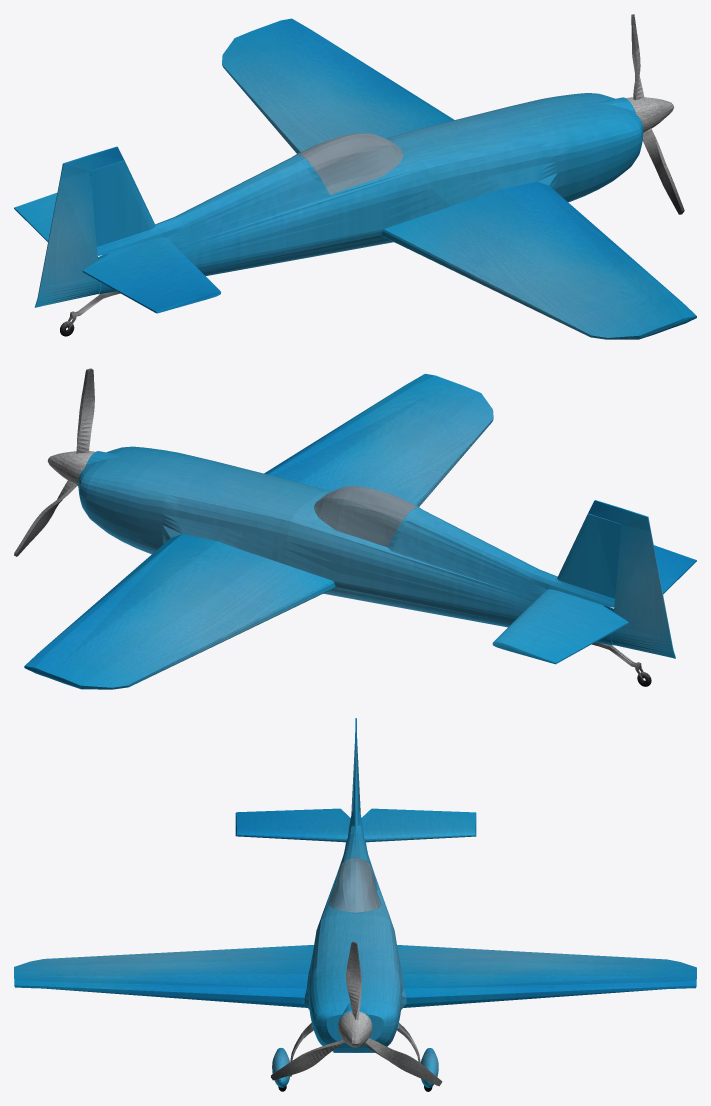
Rendered from Trapezoidal.glb.
The picture shows the model from 3 angles, top to bottom: view 1: azimuth 30°, elevation 25°; view 2: azimuth 150°, elevation 25°; view 3: azimuth 270°, elevation 25°; orthographic projection. The views are drawn at different scales.
Parts seen in each view (by area): view 1: Shape_IndexedFaceSet.008, Shape_IndexedFaceSet.006, Shape_IndexedFaceSet.010, Shape_IndexedFaceSet.002, Shape_IndexedFaceSet.005, Shape_IndexedFaceSet.012; view 2: Shape_IndexedFaceSet.008, Shape_IndexedFaceSet.010, Shape_IndexedFaceSet.006, Shape_IndexedFaceSet.002, Shape_IndexedFaceSet.005, Shape_IndexedFaceSet.012; view 3: Shape_IndexedFaceSet.008, Shape_IndexedFaceSet.010, Shape_IndexedFaceSet.006, Shape_IndexedFaceSet.012, Shape_IndexedFaceSet.005.
Boxes of the visible parts, x1,y1,x2,y2 form: Shape_IndexedFaceSet.008: [14, 93, 643, 313]; Shape_IndexedFaceSet.006: [380, 181, 696, 339]; Shape_IndexedFaceSet.010: [222, 18, 454, 153]; Shape_IndexedFaceSet.002: [34, 146, 123, 307]; Shape_IndexedFaceSet.005: [297, 133, 403, 194]; Shape_IndexedFaceSet.012: [626, 14, 684, 214]; Shape_IndexedFaceSet.008: [78, 446, 696, 664]; Shape_IndexedFaceSet.010: [24, 534, 336, 689]; Shape_IndexedFaceSet.006: [264, 373, 493, 506]; Shape_IndexedFaceSet.002: [588, 500, 675, 658]; Shape_IndexedFaceSet.005: [314, 486, 417, 546]; Shape_IndexedFaceSet.012: [14, 368, 95, 556]; Shape_IndexedFaceSet.008: [235, 752, 476, 1052]; Shape_IndexedFaceSet.010: [397, 945, 696, 1007]; Shape_IndexedFaceSet.006: [14, 945, 313, 1007]; Shape_IndexedFaceSet.012: [271, 941, 442, 1086]; Shape_IndexedFaceSet.005: [329, 858, 381, 912].
Bounding box in the file's own units: 1348 × 463 × 1487.
4 materials, 3 textured.
